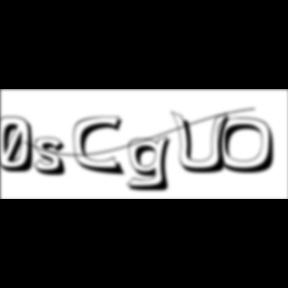0: (0, 115, 42, 174)
C: (74, 115, 128, 178)
O: (218, 117, 282, 176)
U: (171, 110, 236, 176)
g: (126, 134, 178, 194)
s: (34, 137, 74, 179)
